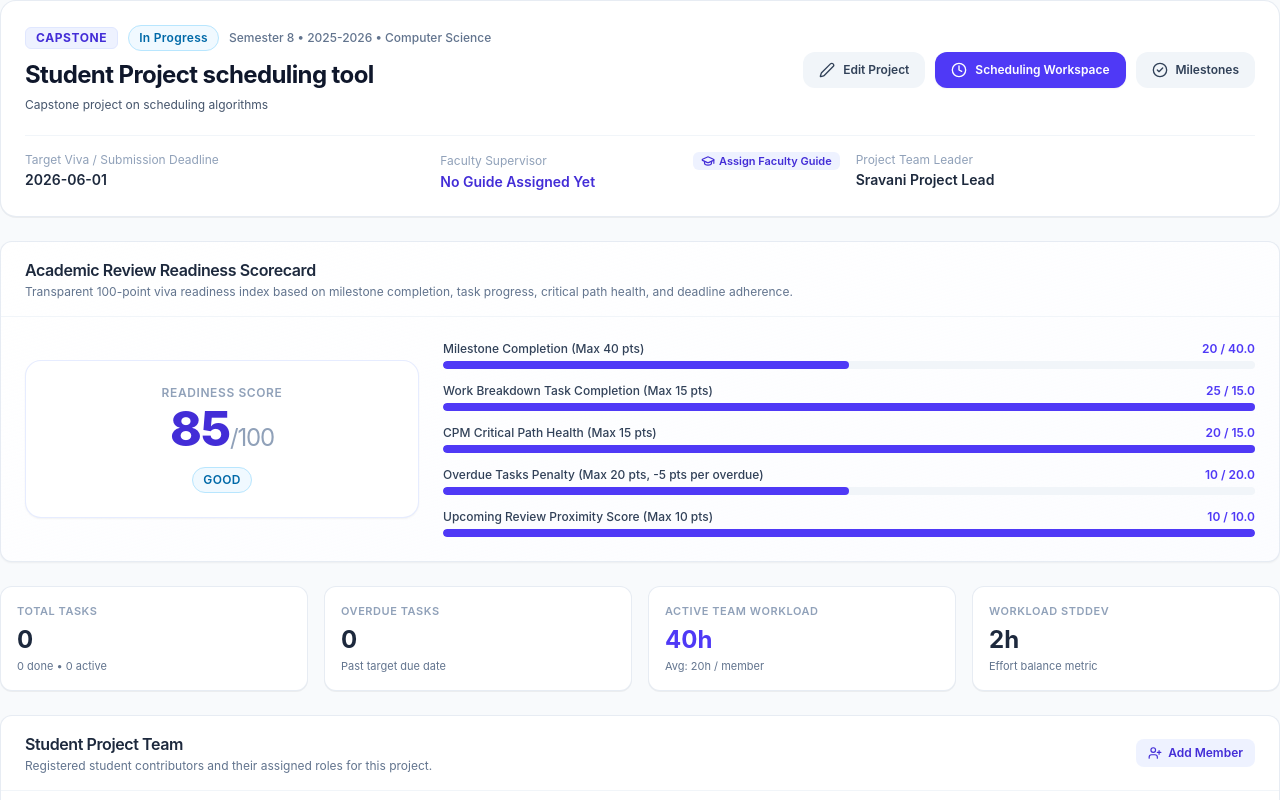
Add Team Member Feature › filters available students by search term (name or email)
The width and height of the screenshot is (1280, 800).
Expected: the heading "Student Project Team" is shown, 25,734 -> 183,754
Click the button "Add Member" at coordinates (1196, 753), box 1136,739 -> 1255,767
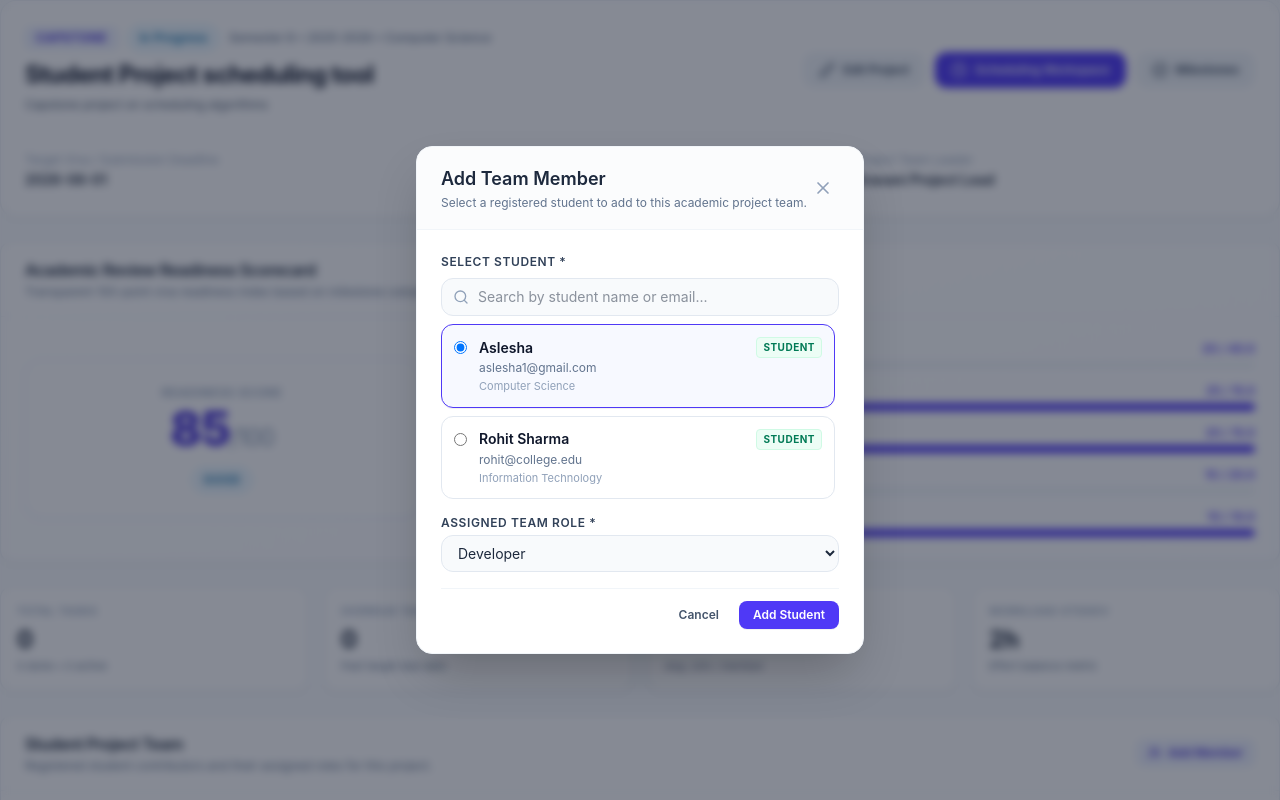
Expected: the text "Aslesha" is shown, 479,338 -> 533,358
Type "aslesha" into the field with placeholder "Search by student name or email..." at coordinates (640, 297), box 441,278 -> 839,316
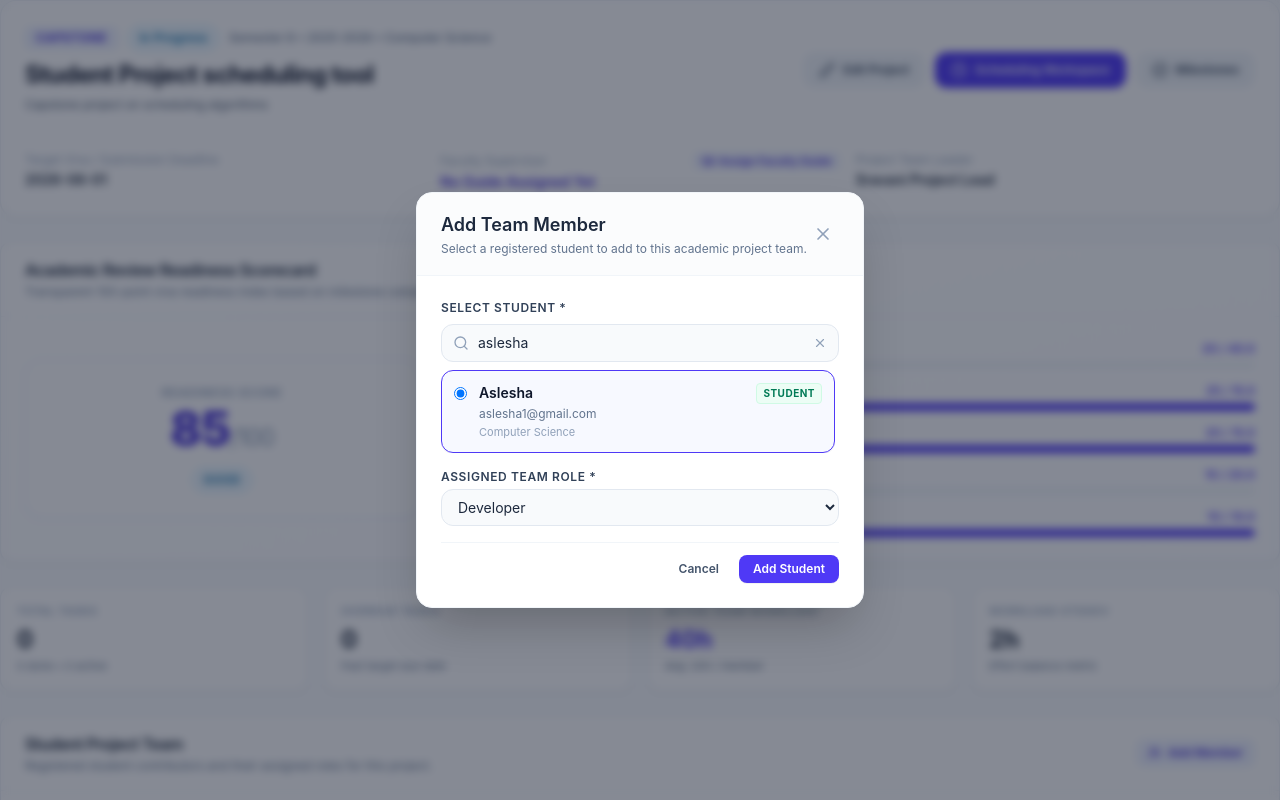
Expected: the text "Aslesha" is shown, 479,383 -> 533,403
Expected: the text "Rohit Sharma" is gone
// Clear search
Replace the text in the field with placeholder "Search by student name or email..." with "nonexistent-student" at coordinates (640, 343), box 441,324 -> 839,362
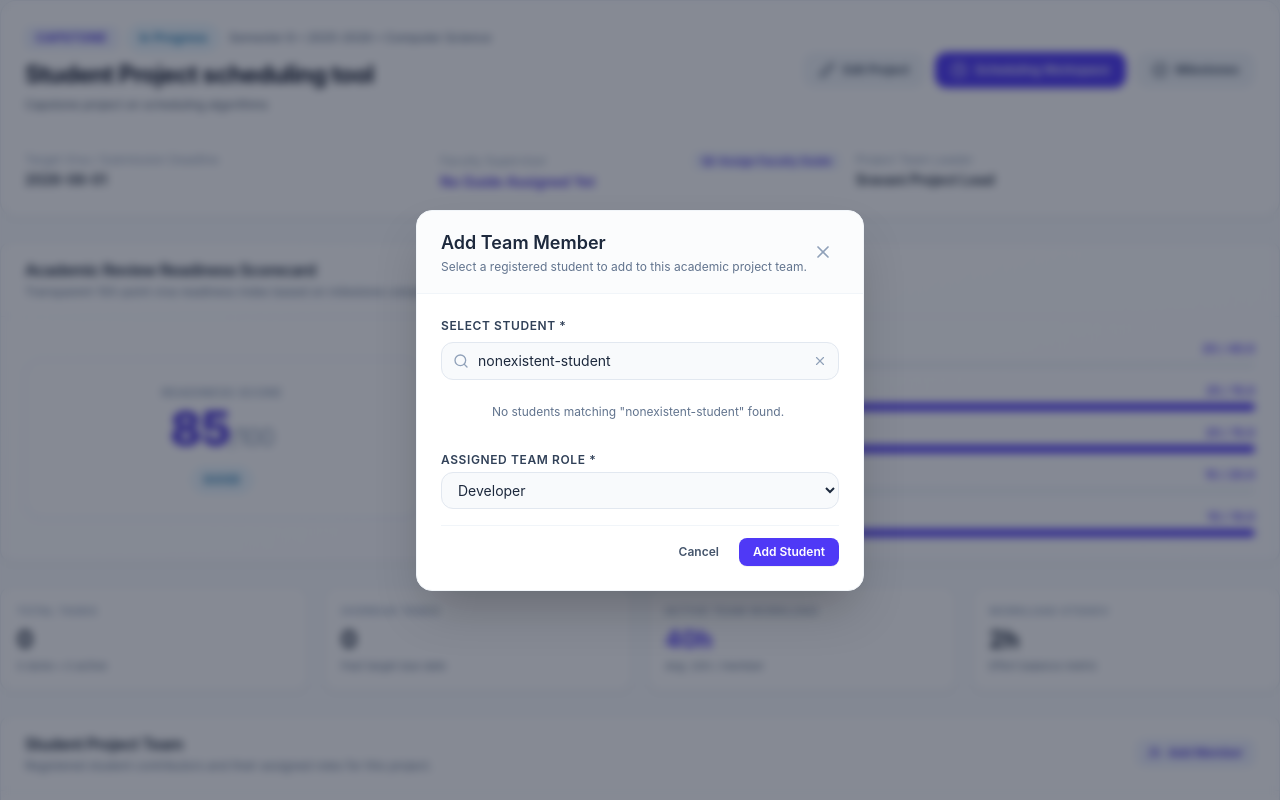
Expected: the text "No students matching \"nonexistent-student\" found." is shown, 492,404 -> 784,418
